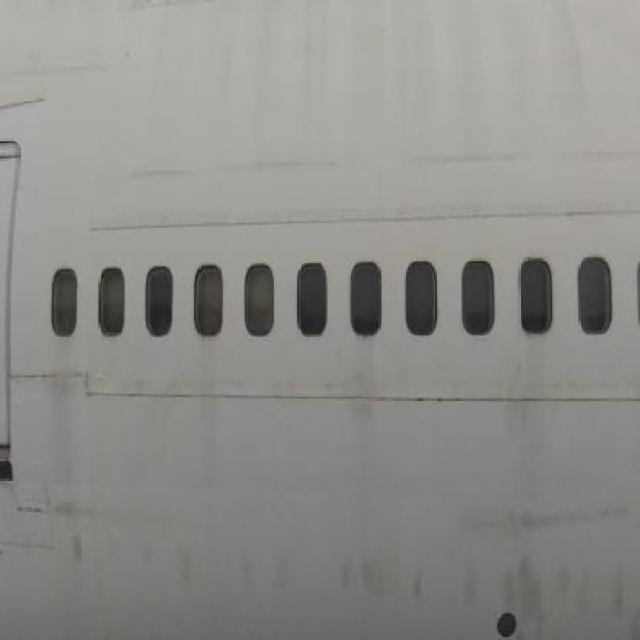Scartch: (457, 552, 640, 638), (128, 149, 342, 196), (458, 495, 640, 547), (327, 539, 428, 623), (403, 144, 539, 184), (52, 492, 120, 572), (231, 532, 298, 613), (136, 530, 196, 598), (558, 137, 640, 178)
